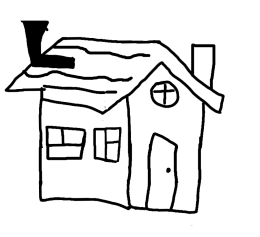chimney: (5, 8, 81, 73), (179, 41, 225, 88)
closed_window: (46, 118, 88, 170), (84, 123, 125, 174), (146, 77, 184, 111)
door: (141, 126, 182, 212)
roof: (0, 34, 229, 119)
wall: (27, 91, 132, 212)
